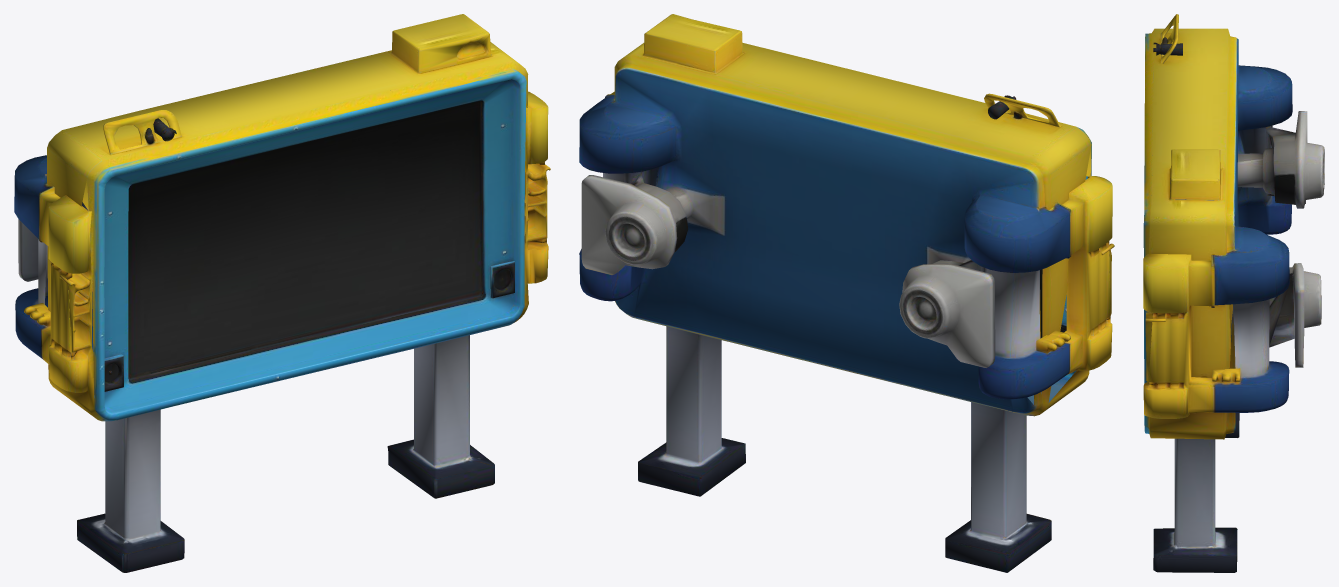
The model's file is jumbotron.glb.
The picture shows the model from 3 angles, left to right: view 1: azimuth 30°, elevation 25°; view 2: azimuth 150°, elevation 25°; view 3: azimuth 270°, elevation 25°; orthographic projection. The views are drawn at different scales.
Parts seen in each view (by area): view 1: jumbotron; view 2: jumbotron; view 3: jumbotron.
Boxes of the visible parts, x1,y1,x2,y2 form: jumbotron: (14,14,550,572); jumbotron: (579,14,1114,572); jumbotron: (1143,14,1324,572).
Bounding box in the file's own units: 0.9995 × 0.8804 × 0.3667.
1 material, 1 textured.
